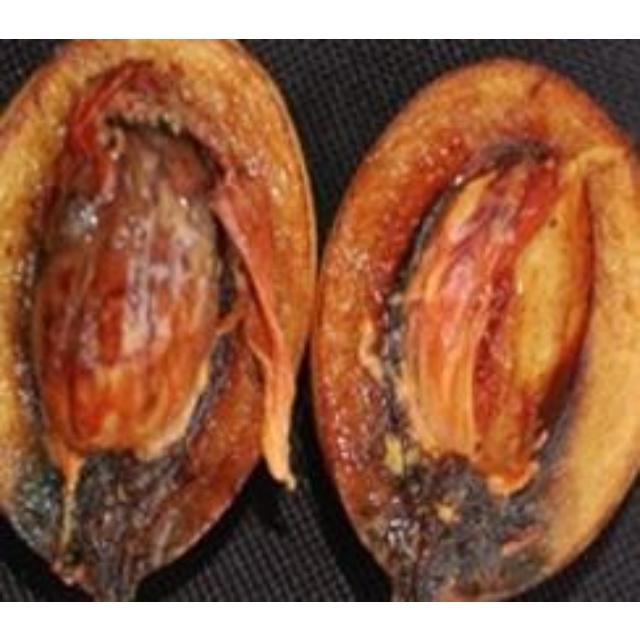damaged: (304, 54, 637, 599), (0, 38, 320, 599)
